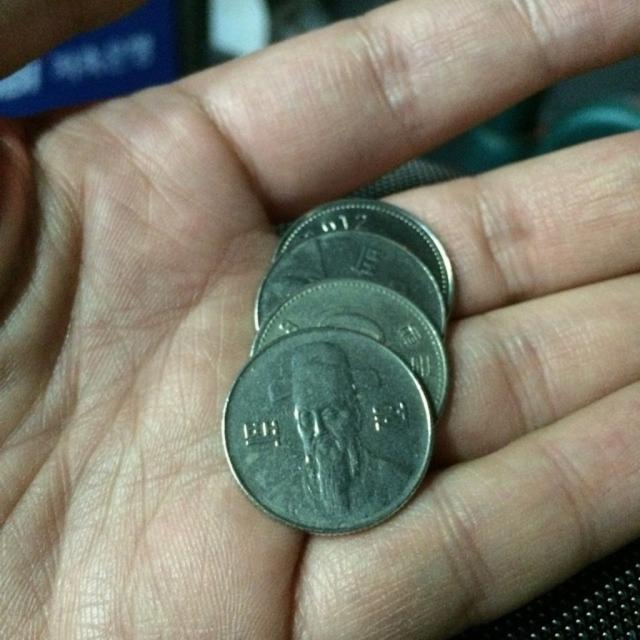Coin: (223, 326, 435, 534), (248, 279, 450, 426), (250, 230, 452, 347), (271, 198, 458, 306)
